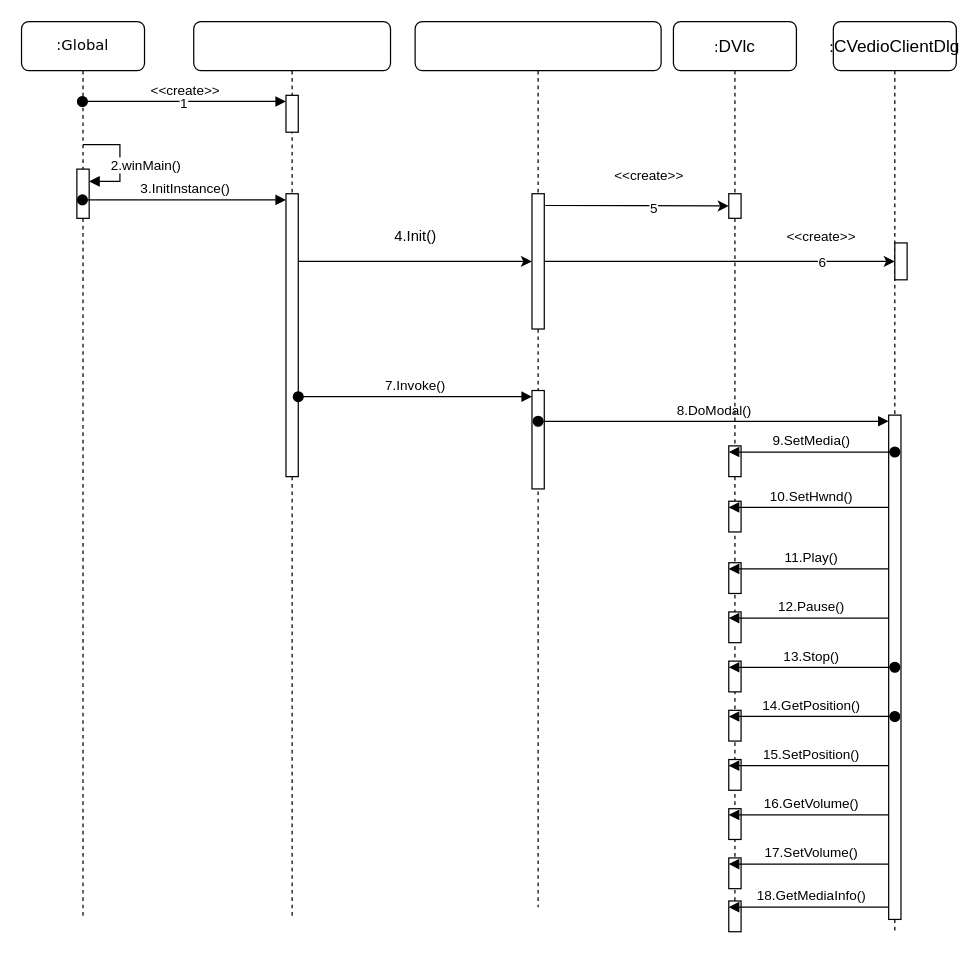
Some shapes in this 979 by 953 pixel diagram are drawn without their labels. Each missing label, with the box of its shape:
: CVedioClientApp: (192, 20, 391, 919)
: CVedioClientCotroller: (414, 20, 661, 907)
